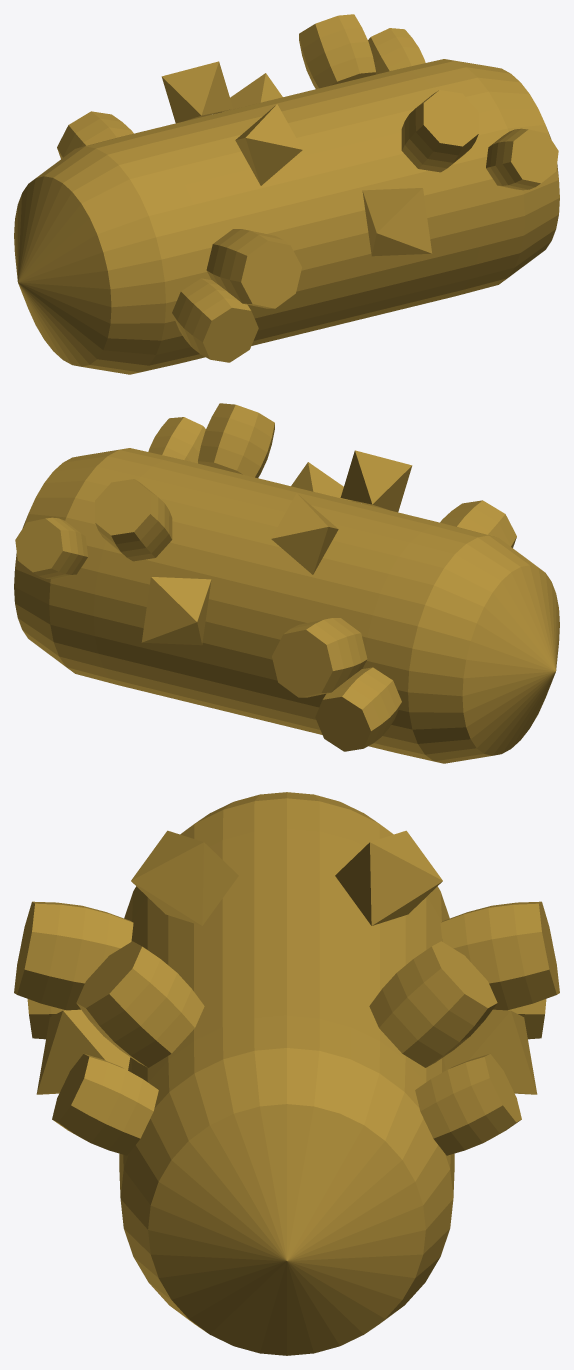
File: exp1_capsule_sym_01.glb
The picture shows the model from 3 angles, top to bottom: view 1: azimuth 30°, elevation 25°; view 2: azimuth 150°, elevation 25°; view 3: azimuth 270°, elevation 25°; orthographic projection. The views are drawn at different scales.
Visible parts, largest first — view 1: exp1_capsule_sym_01; view 2: exp1_capsule_sym_01; view 3: exp1_capsule_sym_01.
Part boxes in pixels (<box>): exp1_capsule_sym_01: <box>14,14,559,374</box>; exp1_capsule_sym_01: <box>14,403,559,763</box>; exp1_capsule_sym_01: <box>14,792,559,1355</box>.
Bounding box in the file's own units: 3.43 × 1.53 × 2.12.
